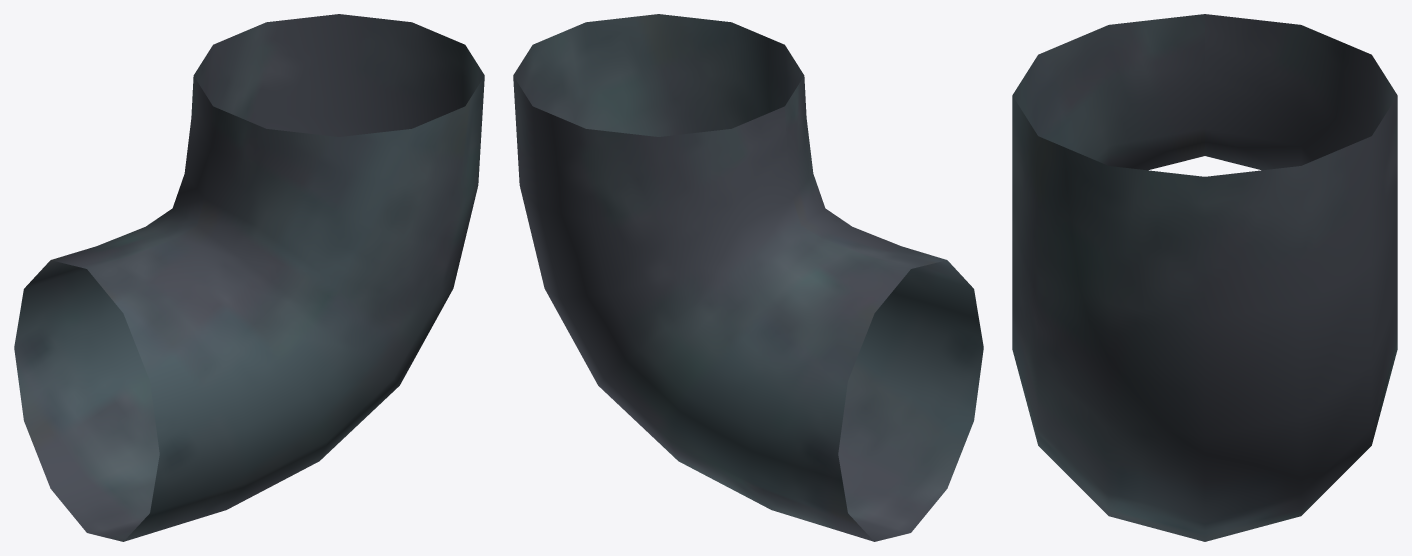
Rendered from CanoPequenoJoelho.fbx.
3 views of the same model, side by side, from view 1: azimuth 30°, elevation 25°; view 2: azimuth 150°, elevation 25°; view 3: azimuth 270°, elevation 25° (orthographic). The views are drawn at different scales.
Visible parts, largest first — view 1: CanoPequenoJoelho; view 2: CanoPequenoJoelho; view 3: CanoPequenoJoelho.
Part boxes in pixels (bbox=[...]): CanoPequenoJoelho: bbox=[14, 14, 484, 541]; CanoPequenoJoelho: bbox=[513, 14, 983, 541]; CanoPequenoJoelho: bbox=[1012, 14, 1397, 541].
Size of the model in its own units: 30 by 30 by 20.
